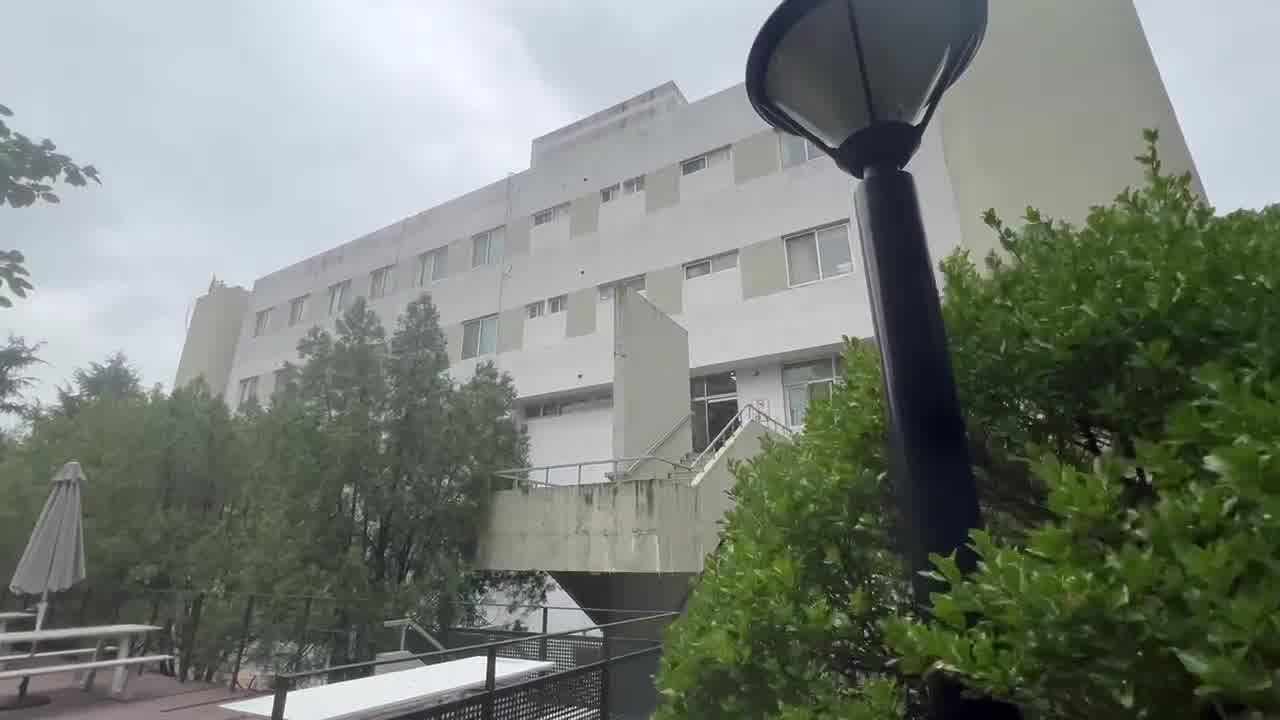building: (484, 111, 756, 553)
